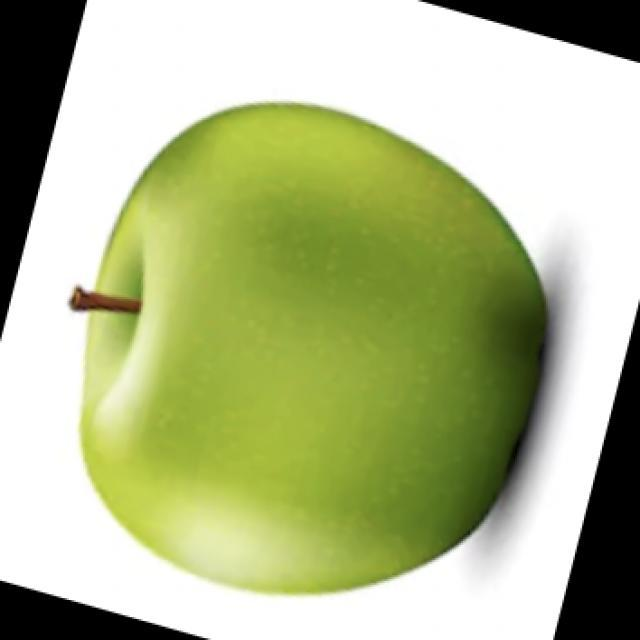Fresh Apple: (68, 95, 547, 588)
